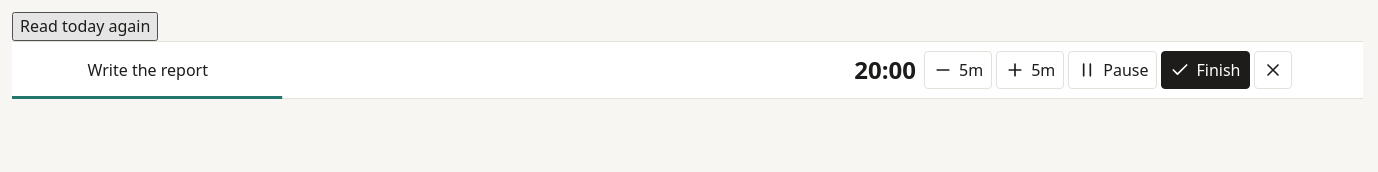
RunningTimerBar › the label › opens on the current label and saves the new one on Enter, trimmed, once
Step 1. Click the button titled "Edit label" → (148, 70), box [84, 53, 846, 88]
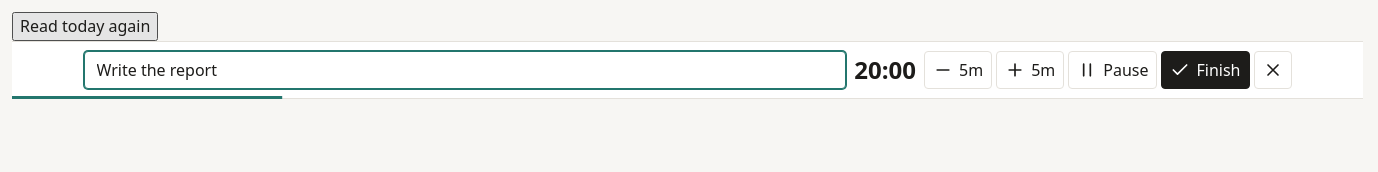
Check: the field named "Session label" holds "Write the report"
Step 2. Replace the text in the field named "Session label" with "  Draft the summary " → (465, 70), box [84, 51, 846, 89]
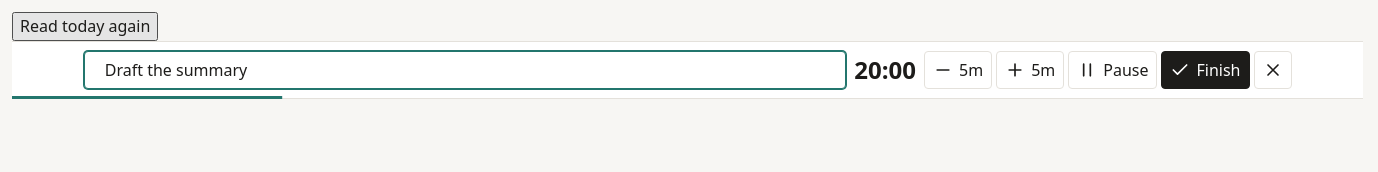
Step 3. Press Enter in the field named "Session label", box [84, 51, 846, 89]
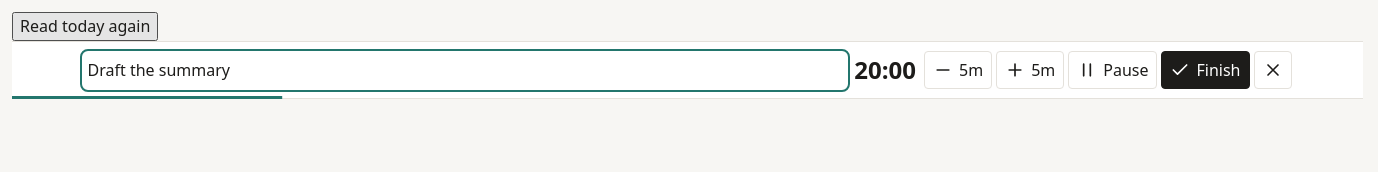
Check: the field is gone
Check: the button titled "Edit label" reads "Draft the summary", box [84, 53, 846, 88]
